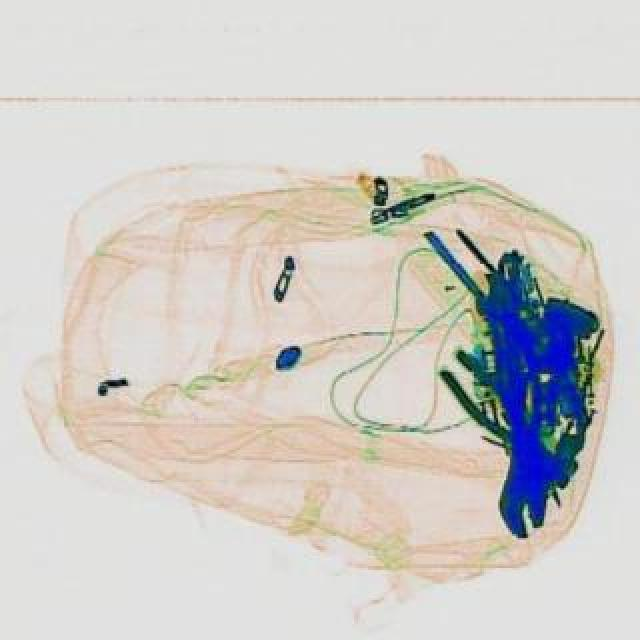scissors: (480, 250, 550, 536)
wrench: (428, 344, 584, 498)
